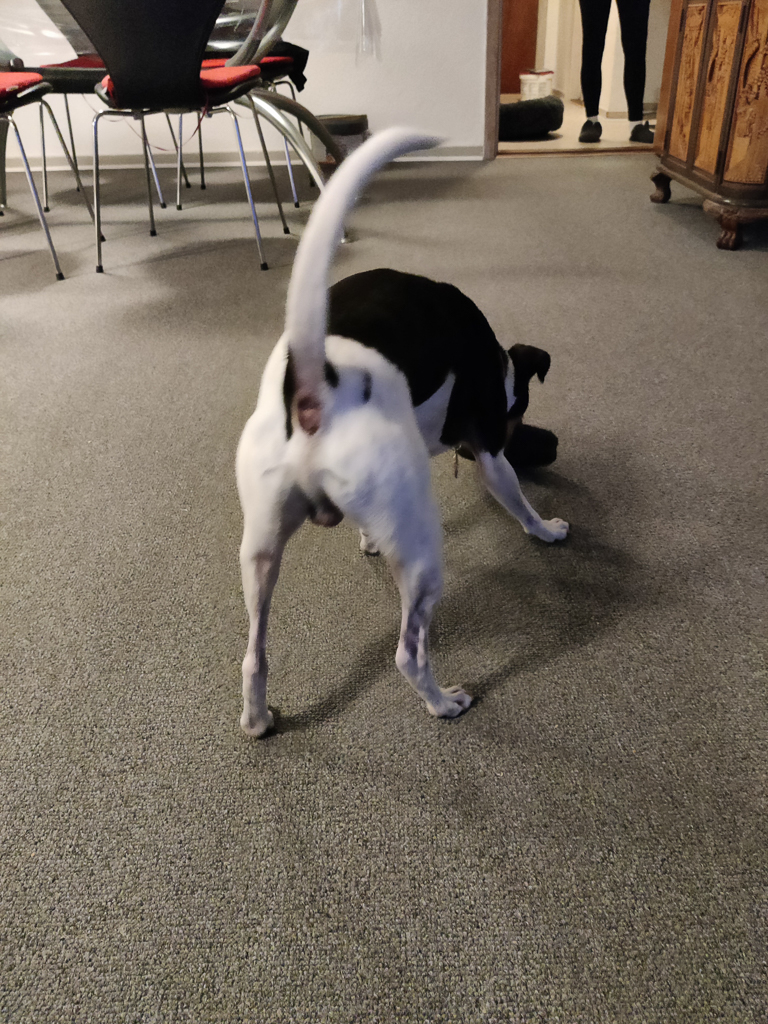Dog: (207, 117, 585, 777)
Humanoid: (574, 0, 660, 148)
